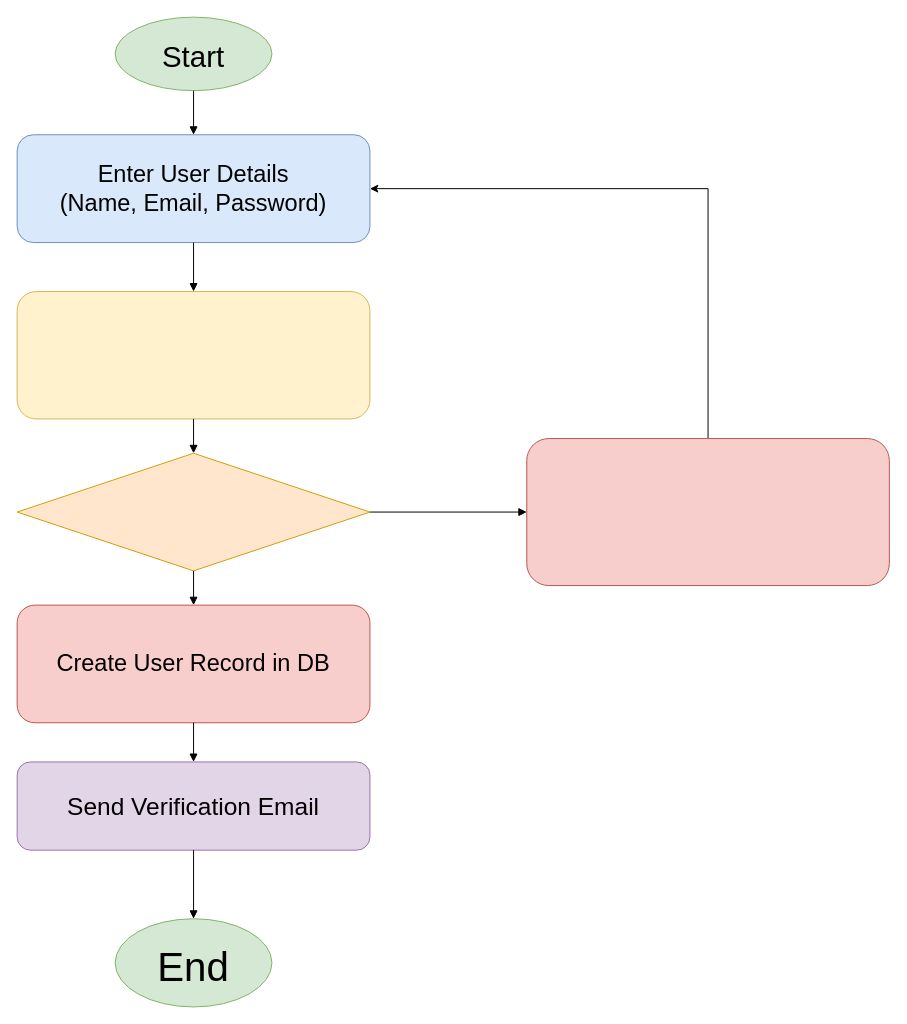
Image size: 907x1024. Some labels were removed from this diagram. Each missing label, with the centre of its shape:
Email Already Exists?: the point at 193,511
Show Error: Email Already Registered: the point at 707,512
Validate Input (Check format, required fields): the point at 193,355
